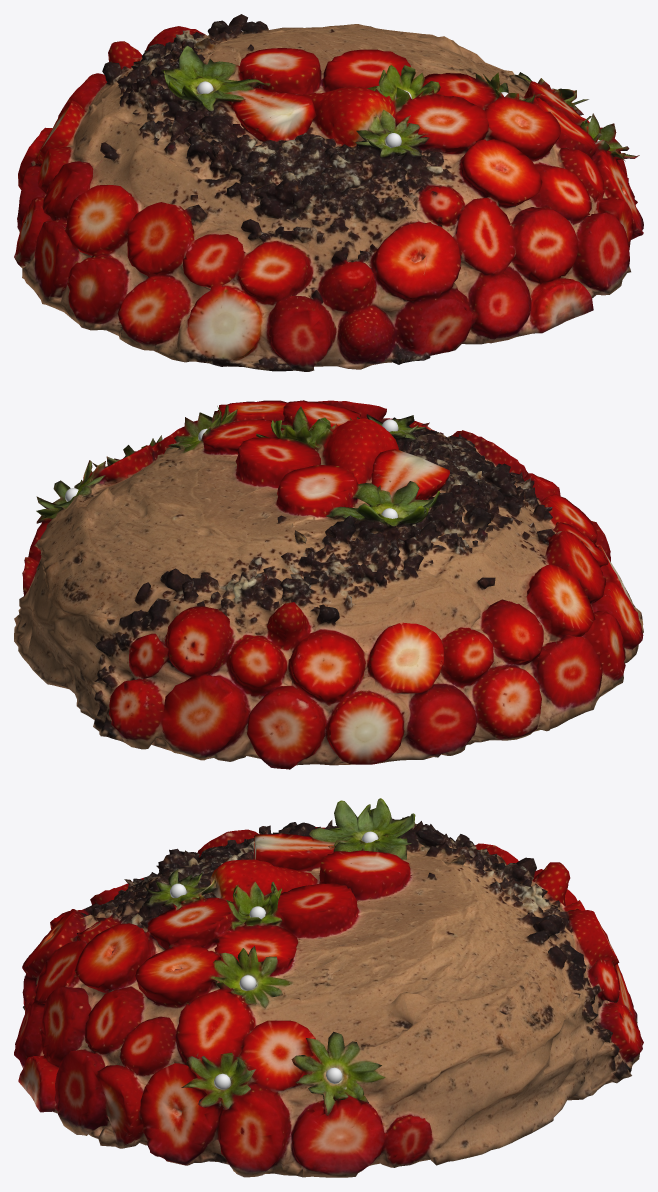
The model's file is torta-frutillas.glb.
3 renders of one model, top to bottom at view 1: azimuth 30°, elevation 25°; view 2: azimuth 150°, elevation 25°; view 3: azimuth 270°, elevation 25°, orthographic. The views are drawn at different scales.
Visible parts, largest first — view 1: strawberry_chocolate_cake; view 2: strawberry_chocolate_cake; view 3: strawberry_chocolate_cake.
Part boxes in pixels (left/top/right/bottom): strawberry_chocolate_cake: left=14, top=14, right=643, bottom=371; strawberry_chocolate_cake: left=14, top=400, right=643, bottom=769; strawberry_chocolate_cake: left=14, top=798, right=643, bottom=1177.
Size of the model in its own units: 0.2443 by 0.0792 by 0.2403.
Materials: 1 (1 with a texture image).
